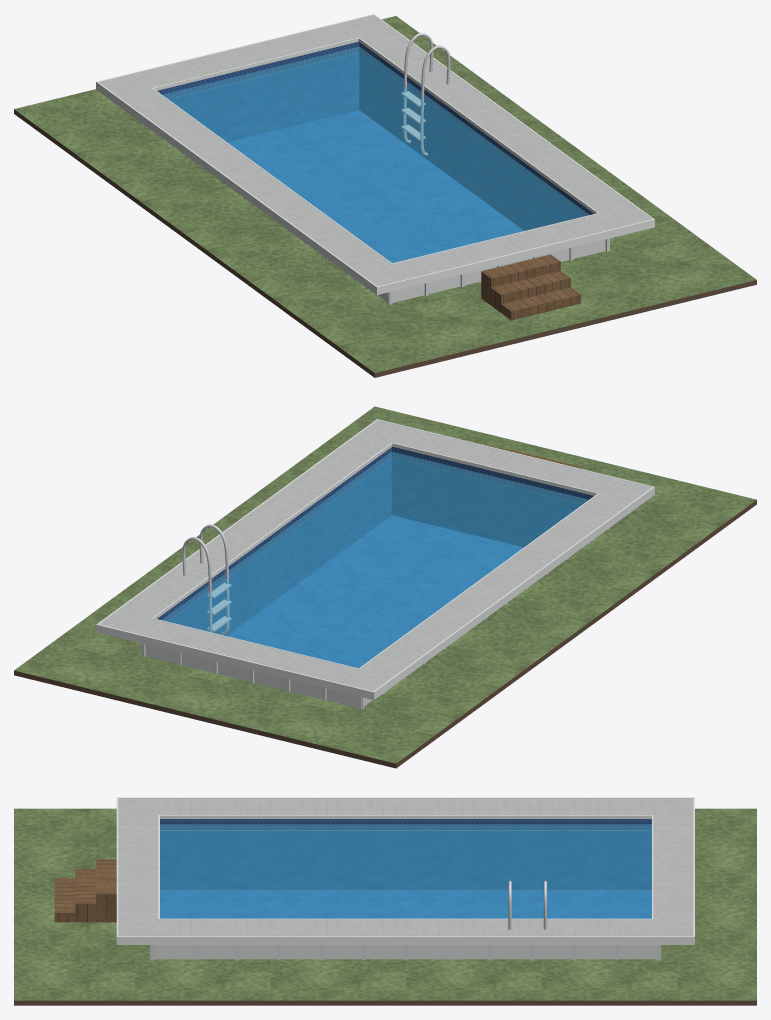
The model's file is kayak-pool-12x24-white-walk-rec-nofence.8604decc1b.glb.
The picture shows the model from 3 angles, top to bottom: view 1: azimuth 30°, elevation 25°; view 2: azimuth 150°, elevation 25°; view 3: azimuth 270°, elevation 25°; orthographic projection. The views are drawn at different scales.
Parts seen in each view (by area): view 1: ground, water, deck, liner_wall, liner_floor, fascia, steps, soil, wall, steel; view 2: ground, water, deck, liner_wall, liner_floor, fascia, soil, wall, steel; view 3: ground, water, liner_wall, deck, liner_floor, fascia, wall, soil, steps, upright, steel.
Part boxes in pixels (left/top/right/bottom): ground: left=14, top=16, right=756, bottom=372; water: left=162, top=46, right=588, bottom=263; deck: left=99, top=15, right=651, bottom=286; liner_wall: left=157, top=41, right=593, bottom=230; liner_floor: left=227, top=110, right=523, bottom=263; fascia: left=96, top=14, right=654, bottom=294; steps: left=481, top=254, right=580, bottom=320; soil: left=14, top=109, right=756, bottom=377; wall: left=378, top=239, right=605, bottom=302; steel: left=401, top=32, right=450, bottom=155; ground: left=14, top=406, right=756, bottom=763; water: left=162, top=452, right=588, bottom=668; deck: left=99, top=420, right=651, bottom=695; liner_wall: left=157, top=446, right=593, bottom=635; liner_floor: left=227, top=515, right=523, bottom=668; fascia: left=96, top=419, right=654, bottom=699; soil: left=14, top=500, right=756, bottom=768; wall: left=145, top=644, right=372, bottom=707; steel: left=182, top=524, right=231, bottom=634; ground: left=14, top=808, right=756, bottom=1000; water: left=160, top=824, right=651, bottom=918; liner_wall: left=160, top=819, right=651, bottom=889; deck: left=118, top=798, right=693, bottom=936; liner_floor: left=160, top=890, right=651, bottom=918; fascia: left=116, top=797, right=694, bottom=944; wall: left=154, top=945, right=657, bottom=959; soil: left=14, top=1000, right=756, bottom=1005; steps: left=54, top=859, right=116, bottom=922; upright: left=150, top=945, right=661, bottom=960; steel: left=508, top=880, right=546, bottom=929.
Size of the model in its own units: 6.71 by 1.9 by 10.97.
12 materials, 5 textured.
